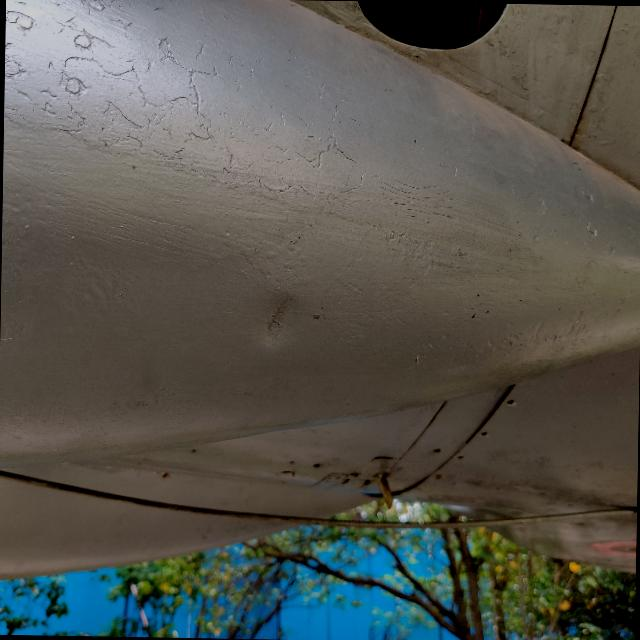dent: (232, 274, 322, 359)
